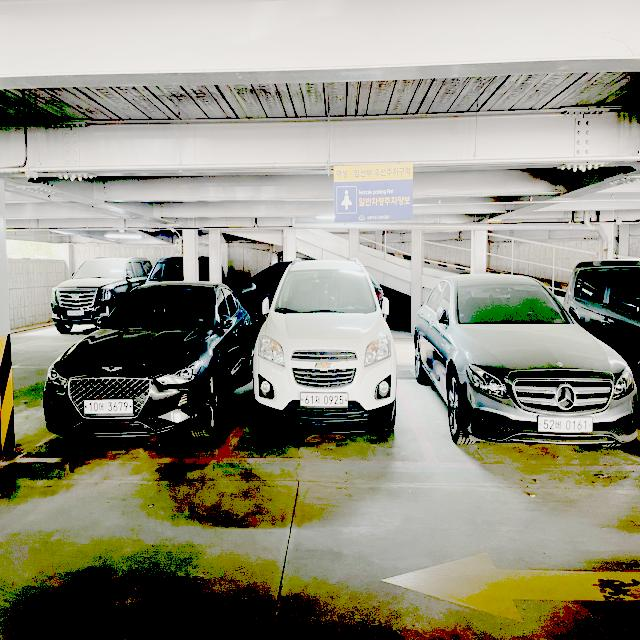occupied: (421, 276, 640, 478), (32, 281, 239, 448), (244, 258, 403, 448)
